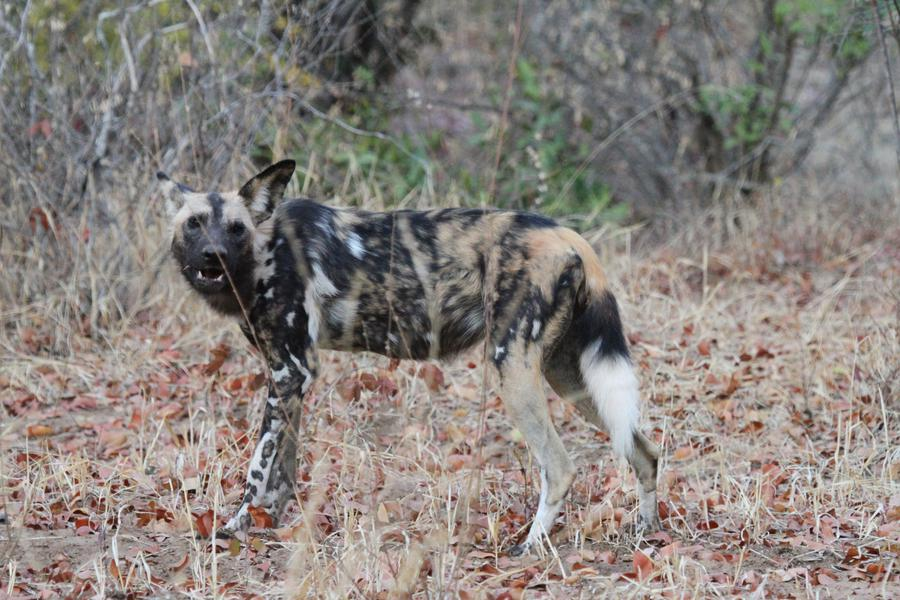wilddog: (106, 140, 668, 421)
